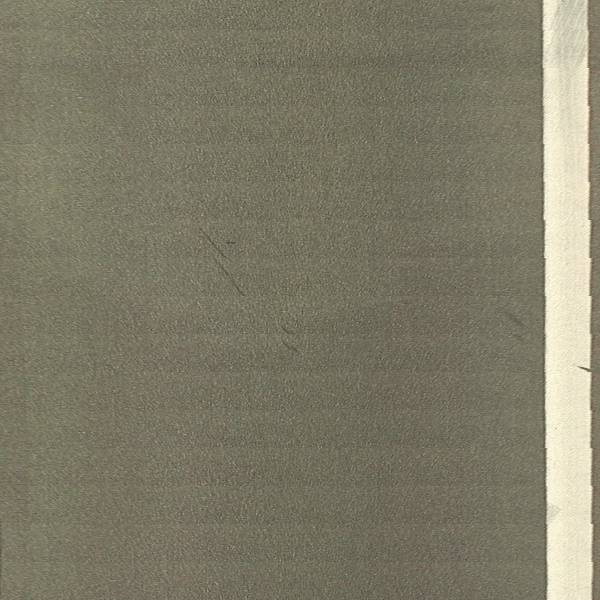road_damage: (198, 226, 249, 299)
